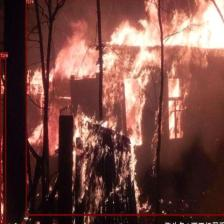fire: (25, 0, 224, 215), (0, 57, 6, 224)
